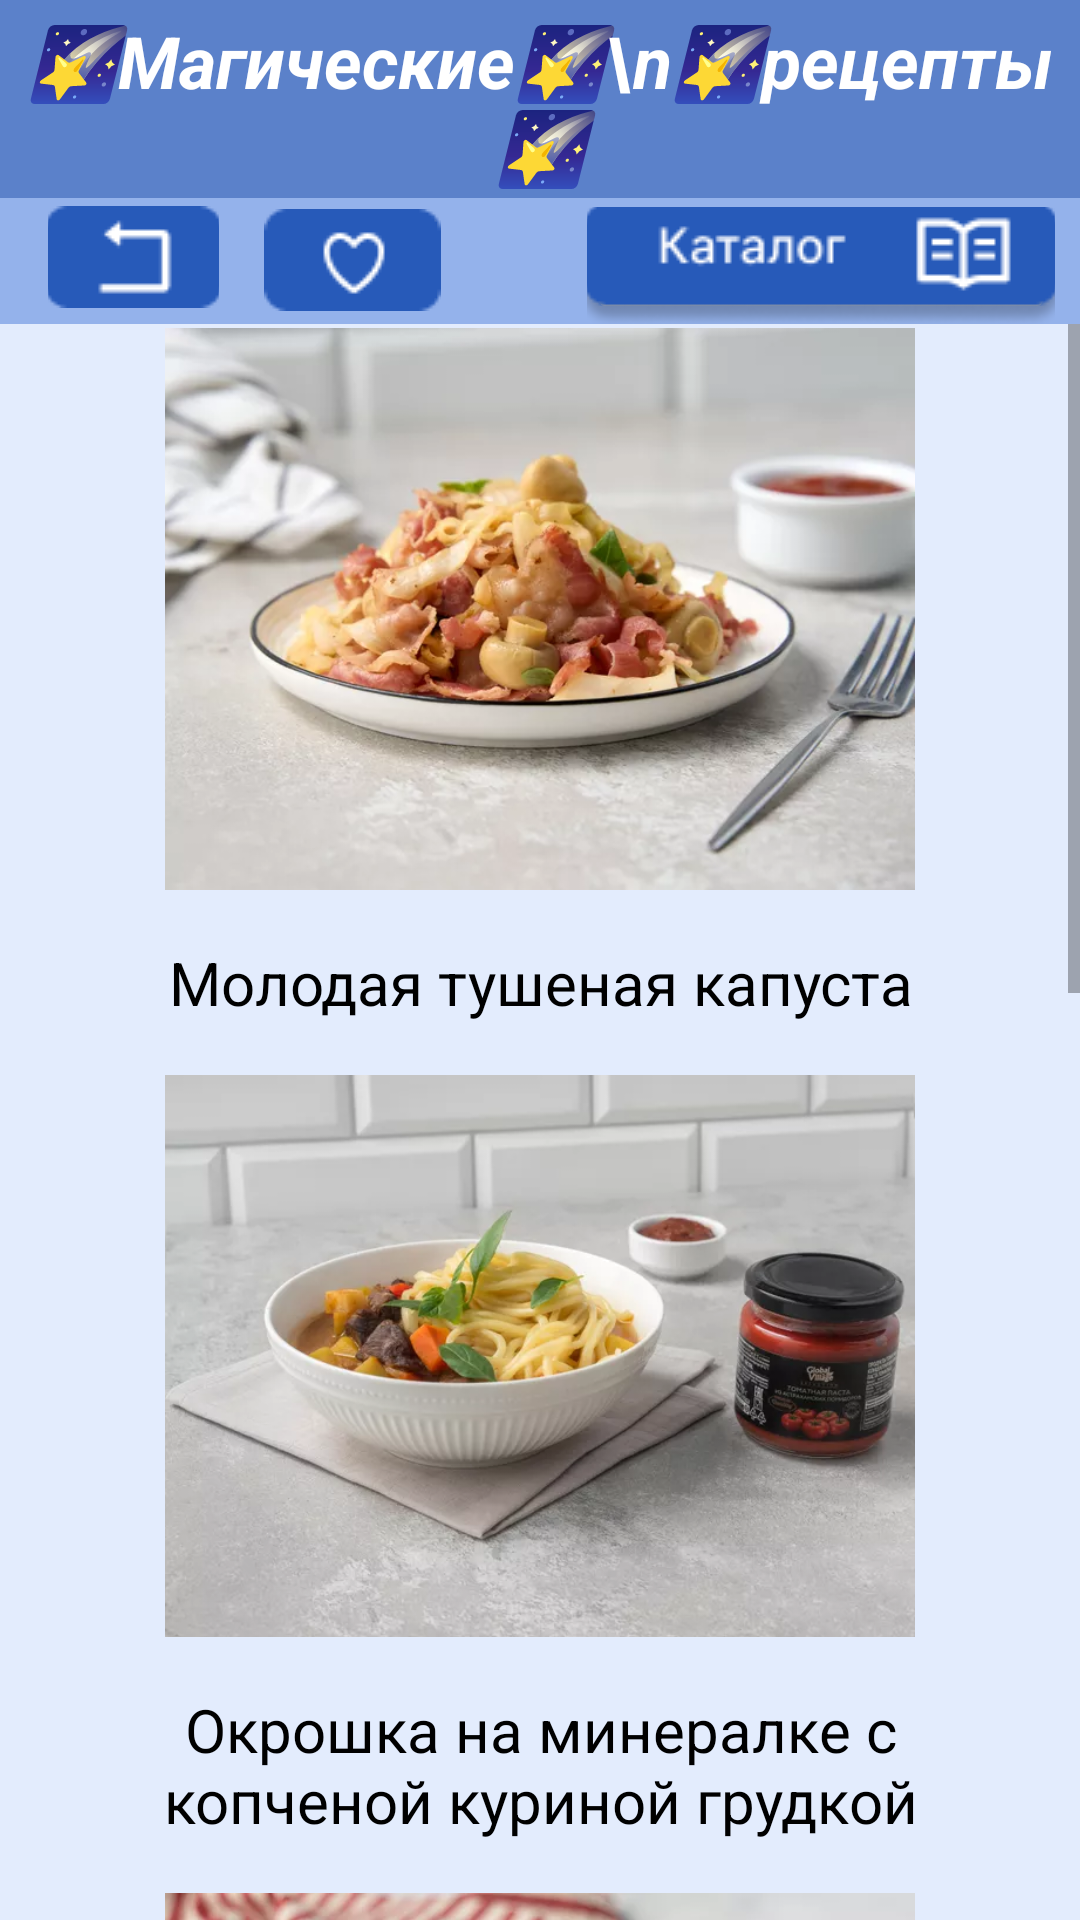

Icons on this 1080*1920 Android screen, each with the point to tap as [x,y]:
favouritebutton: [352,260]
